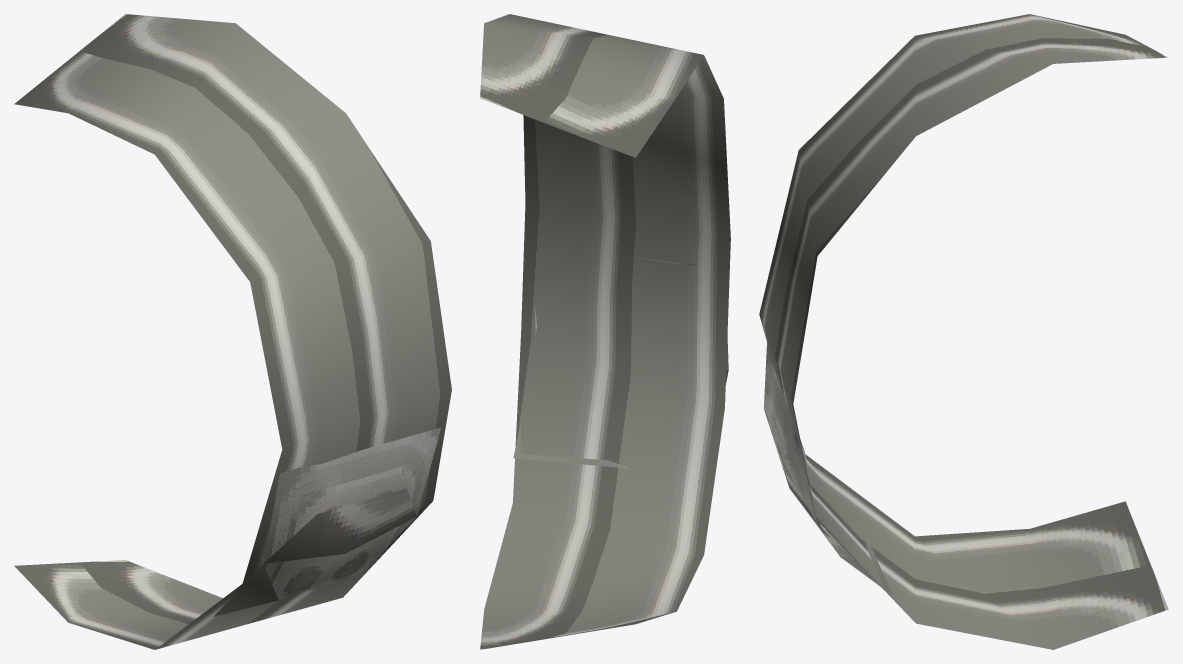
Rendered from acc_patch_postop.dae.
3 renders of one model, left to right at view 1: azimuth 30°, elevation 25°; view 2: azimuth 150°, elevation 25°; view 3: azimuth 270°, elevation 25°, orthographic.
Visible parts, largest first — view 1: acc_patch_postop; view 2: acc_patch_postop; view 3: acc_patch_postop.
Part boxes in pixels (x1,y1,x2,y2): acc_patch_postop: [14, 14, 451, 649]; acc_patch_postop: [480, 14, 730, 649]; acc_patch_postop: [759, 14, 1168, 649].
Size of the model in its own units: 11.21 by 22.7 by 14.37.
Materials: 1 (1 with a texture image).
